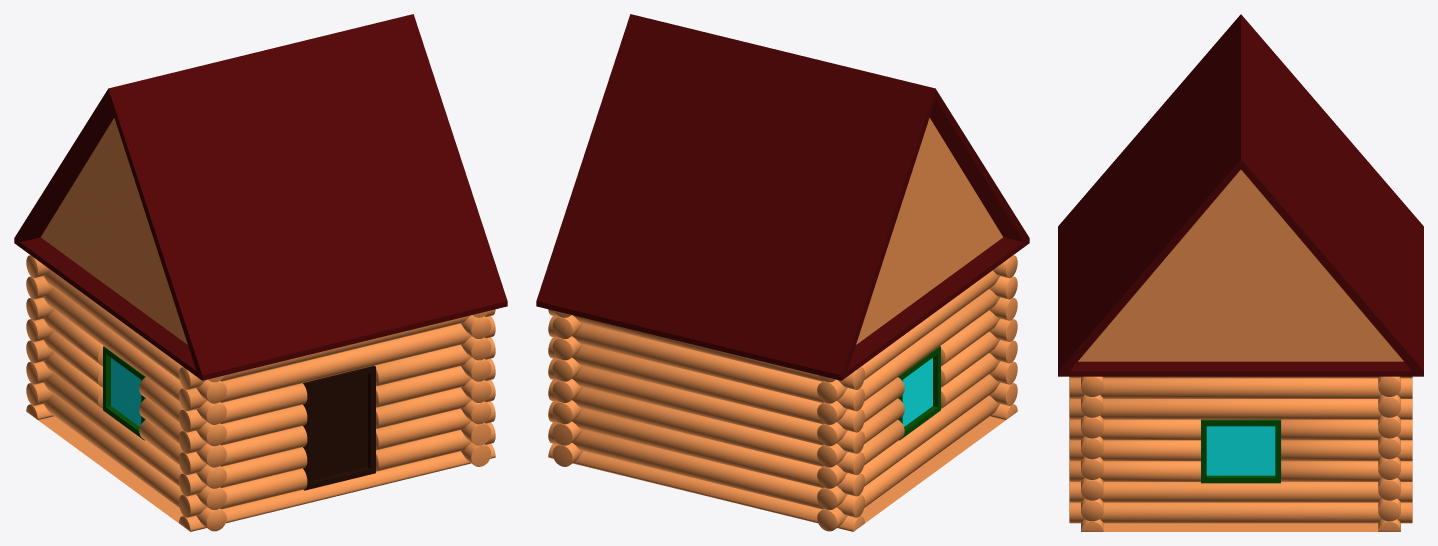
3 views of the same model, side by side, from view 1: azimuth 30°, elevation 25°; view 2: azimuth 150°, elevation 25°; view 3: azimuth 270°, elevation 25° (orthographic). The views are drawn at different scales.
Visible parts, largest first — view 1: Plane, Plane.001, WoodZapas.007_Cylinder.039, WoodZapas.006_Cylinder.044, WoodZapas.003_Cylinder.041, WoodZapas.001_Cylinder.002, WoodZapas.005_Cylinder.043, WoodZapas.004_Cylinder.042, WoodZapas.017_Cylinder.055, WoodZapas.014_Cylinder.052, WoodZapas.009_Cylinder.045, WoodZapas.010_Cylinder.046 (+7 smaller); view 2: Plane, WoodZapas.019_Cylinder.057, WoodZapas.022_Cylinder.060, WoodZapas.023_Cylinder.061, WoodZapas.018_Cylinder.056, WoodZapas.021_Cylinder.059, WoodZapas.020_Cylinder.058, WoodZapas.002_Cylinder.011, WoodZapas.009_Cylinder.045, WoodZapas.014_Cylinder.052, WoodZapas.010_Cylinder.046, WoodZapas.015_Cylinder.053 (+6 smaller); view 3: Plane, WoodMain.018_Cylinder.023, WoodZapas.029_Cylinder.067, WoodZapas.028_Cylinder.066, WoodMain.019_Cylinder.024, Plane.003, WoodZapas.026_Cylinder.064, WoodZapas.027_Cylinder.065, WoodZapas.025_Cylinder.063, Plane.004, WoodZapas.030_Cylinder.068, WoodZapas.005_Cylinder.043 (+13 smaller).
Part boxes in pixels (x1,y1,x2,y2): Plane: (14,14,507,380); Plane.001: (303,365,375,490); WoodZapas.007_Cylinder.039: (179,316,495,411); WoodZapas.006_Cylinder.044: (179,337,495,432); WoodZapas.003_Cylinder.041: (179,401,495,496); WoodZapas.001_Cylinder.002: (179,422,495,517); WoodZapas.005_Cylinder.043: (179,358,495,453); WoodZapas.004_Cylinder.042: (179,380,495,475); WoodZapas.017_Cylinder.055: (179,444,495,531); WoodZapas.014_Cylinder.052: (43,289,226,424); WoodZapas.009_Cylinder.045: (44,395,226,531); WoodZapas.010_Cylinder.046: (43,374,226,510); Plane: (536,14,1029,380); WoodZapas.019_Cylinder.057: (548,401,864,496); WoodZapas.022_Cylinder.060: (548,337,864,432); WoodZapas.023_Cylinder.061: (548,316,864,411); WoodZapas.018_Cylinder.056: (548,422,864,517); WoodZapas.021_Cylinder.059: (548,358,864,453); WoodZapas.020_Cylinder.058: (548,380,864,475); WoodZapas.002_Cylinder.011: (548,444,864,531); WoodZapas.009_Cylinder.045: (817,395,999,531); WoodZapas.014_Cylinder.052: (817,289,1000,424); WoodZapas.010_Cylinder.046: (817,374,1000,510); WoodZapas.015_Cylinder.053: (817,270,1000,403); Plane: (1058,14,1423,376); WoodMain.018_Cylinder.023: (1069,502,1412,523); WoodZapas.029_Cylinder.067: (1069,378,1412,398); WoodZapas.028_Cylinder.066: (1069,399,1412,419); WoodMain.019_Cylinder.024: (1069,482,1412,502); Plane.003: (1201,419,1280,483); WoodZapas.026_Cylinder.064: (1069,440,1412,461); WoodZapas.027_Cylinder.065: (1069,419,1412,440); WoodZapas.025_Cylinder.063: (1069,461,1412,481); Plane.004: (1103,523,1378,531); WoodZapas.030_Cylinder.068: (1069,376,1412,378); WoodZapas.005_Cylinder.043: (1081,436,1103,459).
Size of the model in its own units: 6 by 7.2 by 6.4.
